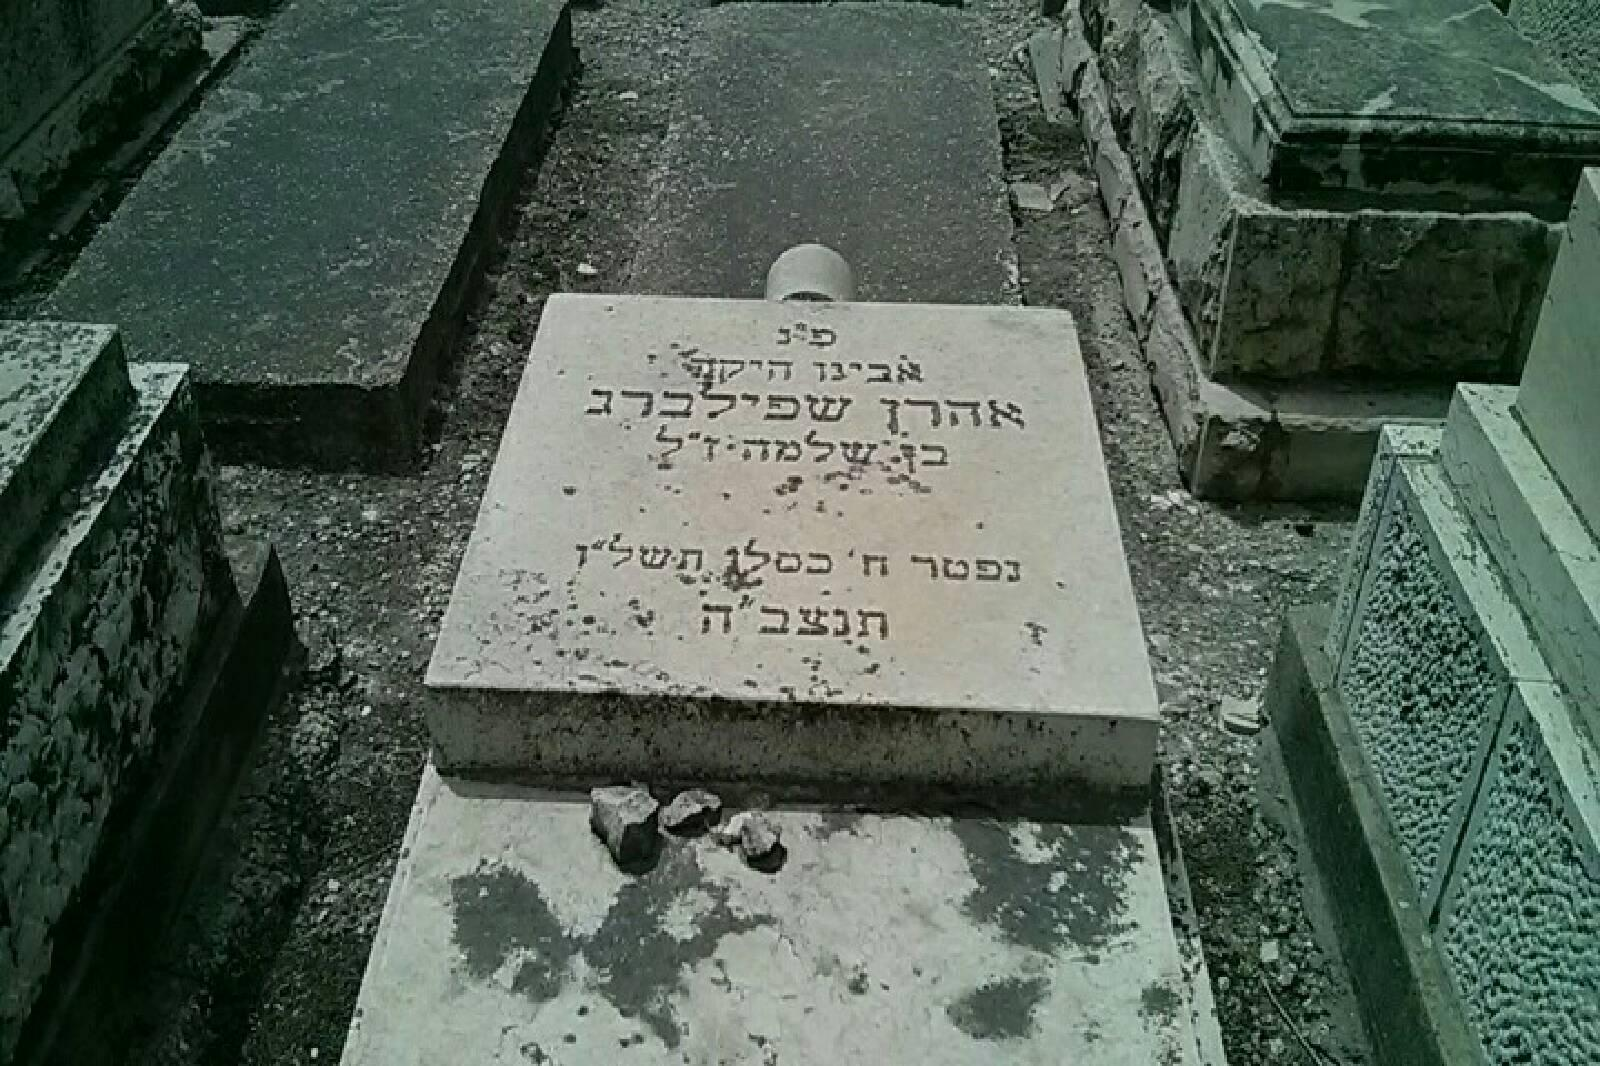vault: (335, 242, 1206, 1066)
